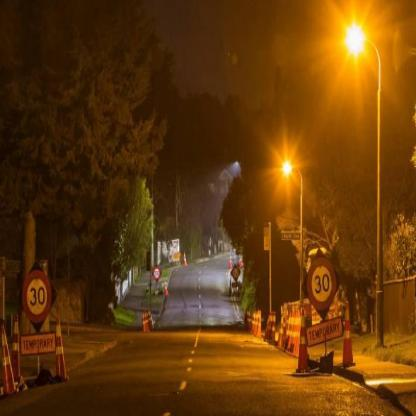other: (271, 137, 306, 212), (332, 13, 369, 70)
